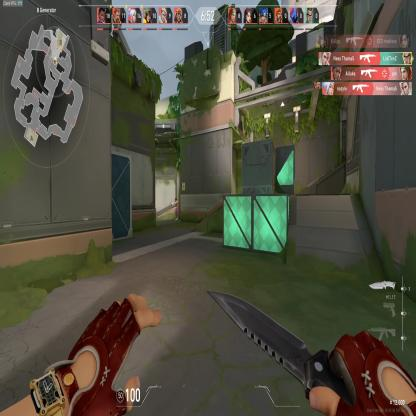enemy: (172, 197, 179, 221)
